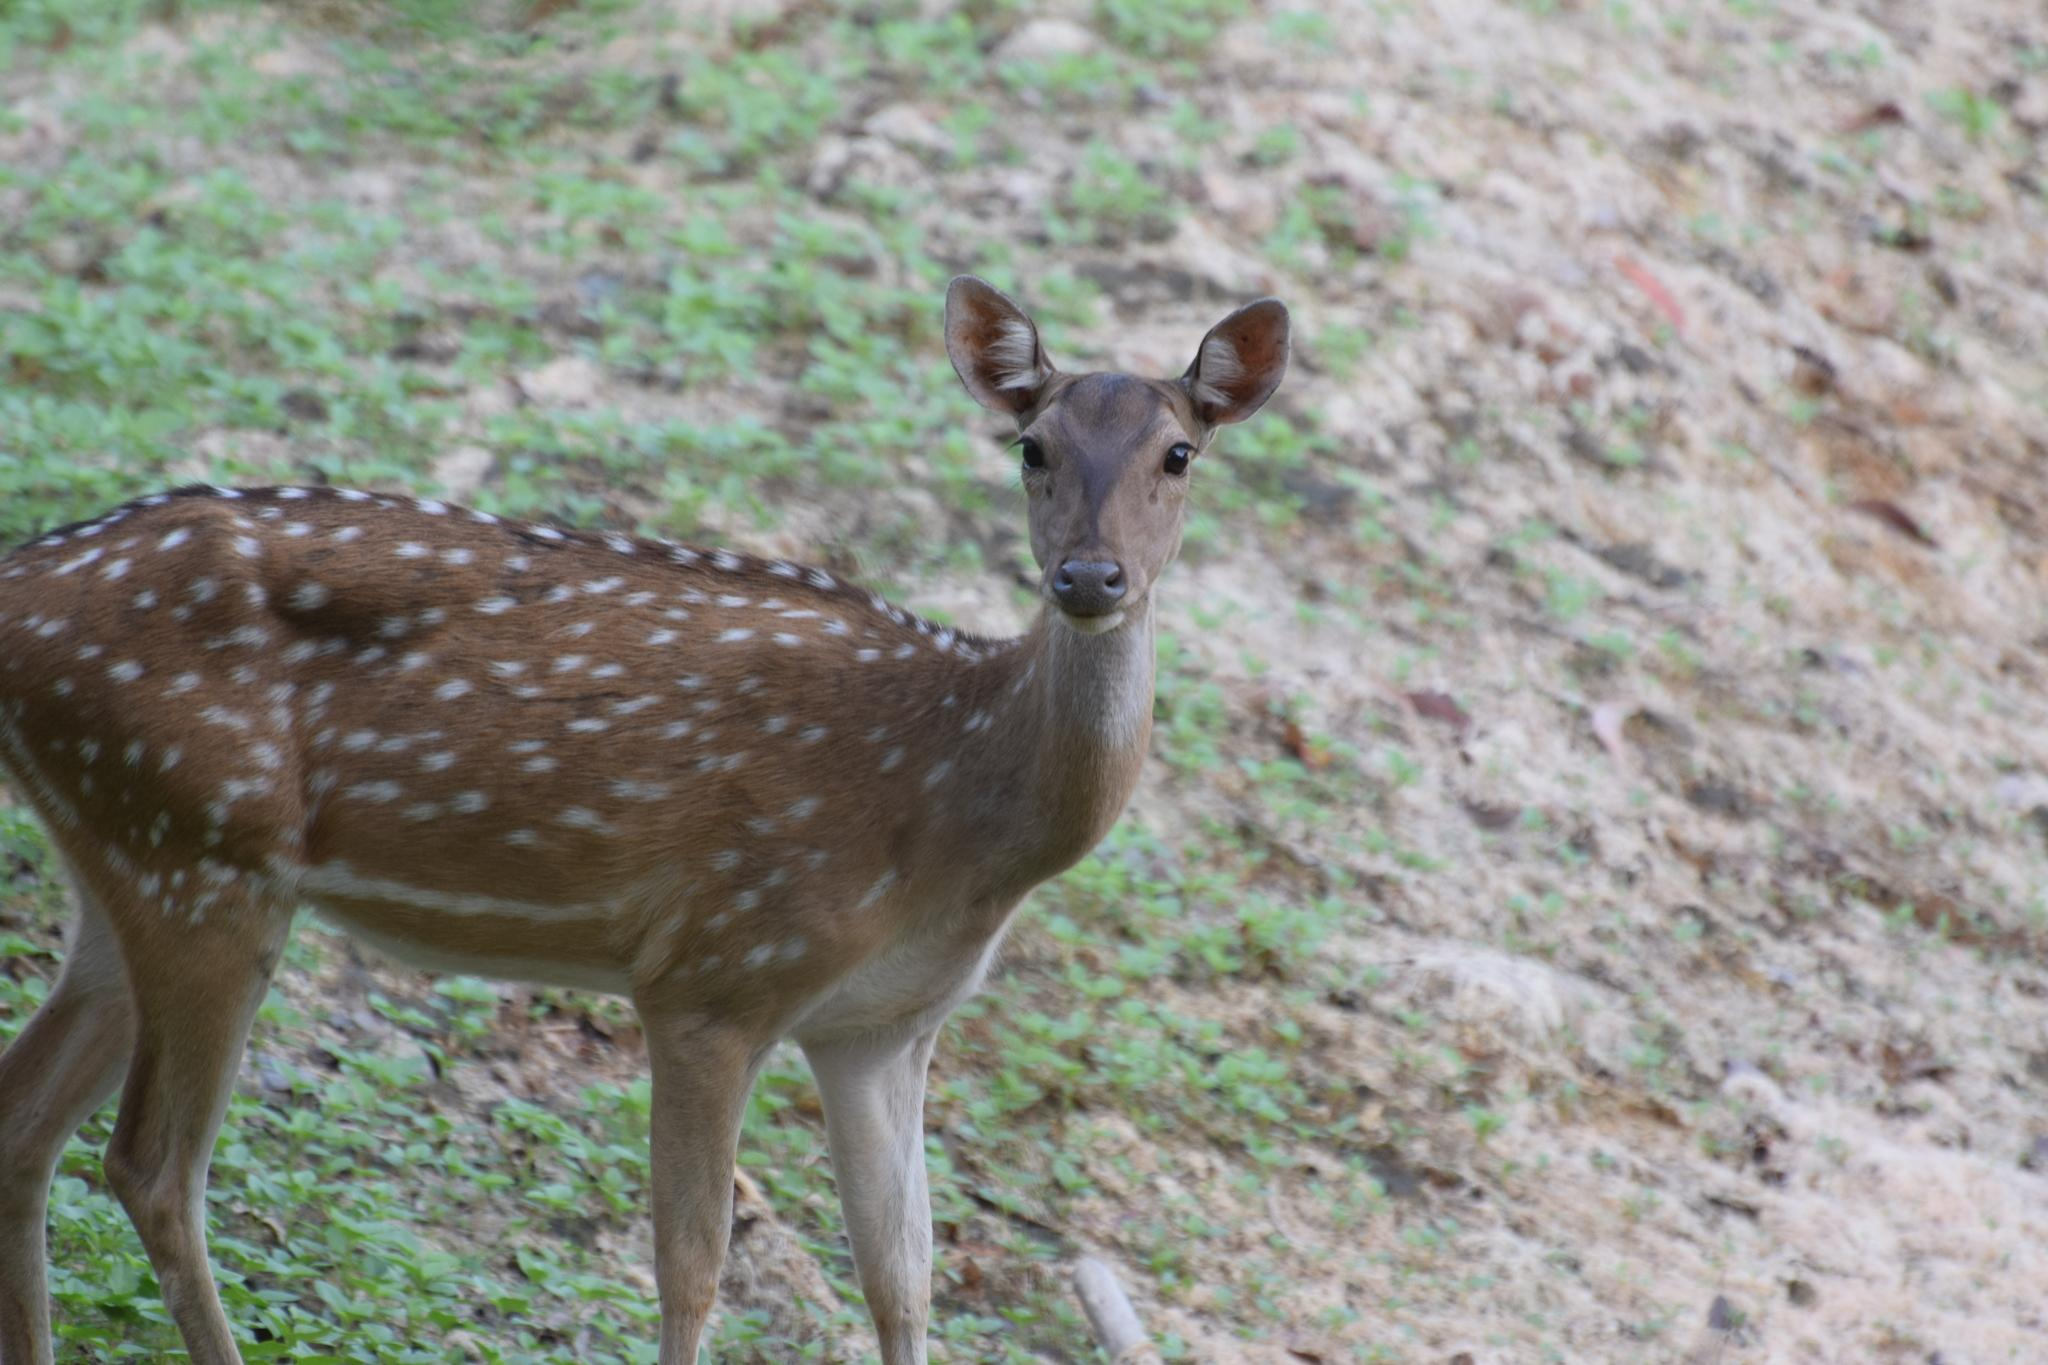Deer: (0, 277, 1290, 1363)
